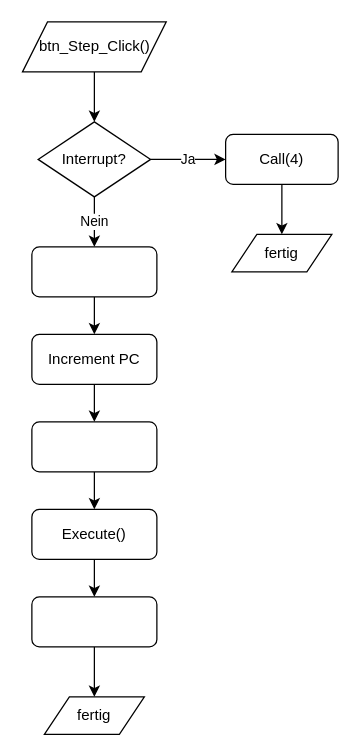
This 360x756 diagram has some shape labels left out. The box of each missing label's shape, as (x1, y1, x2, y2) in pixels:
Decode(): (31, 421, 157, 472)
Fetch(): (31, 246, 157, 297)
Refresh GUI: (31, 596, 157, 647)
